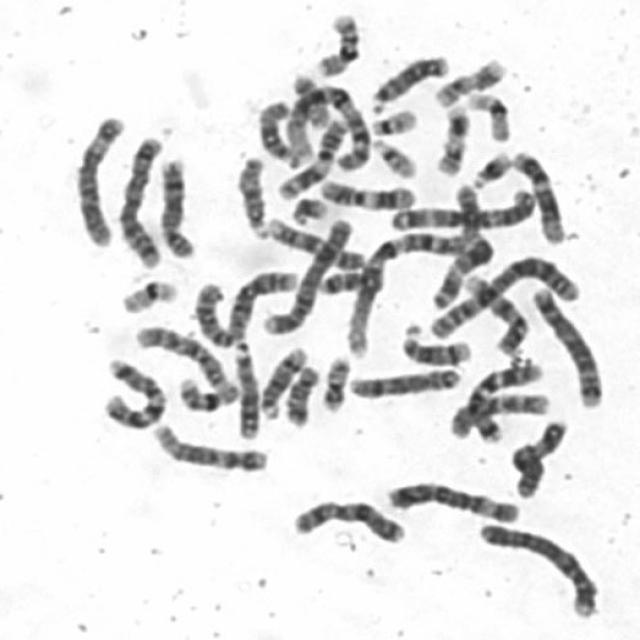A1: (340, 229, 487, 360), (284, 76, 371, 172)
A2: (425, 252, 581, 340), (190, 266, 301, 348)
A3: (434, 177, 494, 316), (385, 184, 536, 232)
B4: (475, 516, 601, 620), (258, 214, 356, 338)
B5: (528, 282, 604, 410), (114, 133, 166, 269)
C10: (130, 322, 231, 392), (447, 387, 552, 440)
C11: (273, 115, 350, 201), (316, 176, 417, 212)
C12: (148, 420, 268, 474), (509, 148, 565, 246)
C6: (70, 112, 127, 248), (382, 476, 521, 524)
C7: (455, 358, 545, 442), (97, 354, 169, 431)
C8: (155, 154, 196, 260), (342, 364, 462, 400)
C9: (264, 213, 365, 272), (460, 270, 529, 356)
D13: (366, 52, 449, 114), (230, 341, 259, 440)
D14: (257, 344, 308, 420), (399, 320, 471, 368)
D15: (232, 153, 270, 241), (253, 96, 296, 166)
E16: (312, 9, 361, 78), (175, 373, 240, 413)
E17: (429, 56, 508, 110), (433, 101, 470, 179)
E18: (281, 362, 322, 426), (313, 270, 388, 298)
F19: (464, 88, 511, 144), (123, 276, 180, 316)
F20: (291, 72, 333, 130), (318, 353, 353, 413)
G21: (467, 148, 513, 191), (288, 193, 329, 227)
G22: (368, 134, 420, 180), (367, 106, 419, 138)
X: (289, 496, 406, 544), (508, 416, 571, 499)
